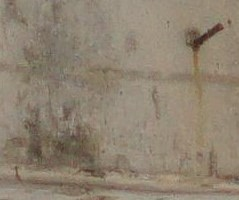Exposed reinforcement: (192, 22, 224, 53)
